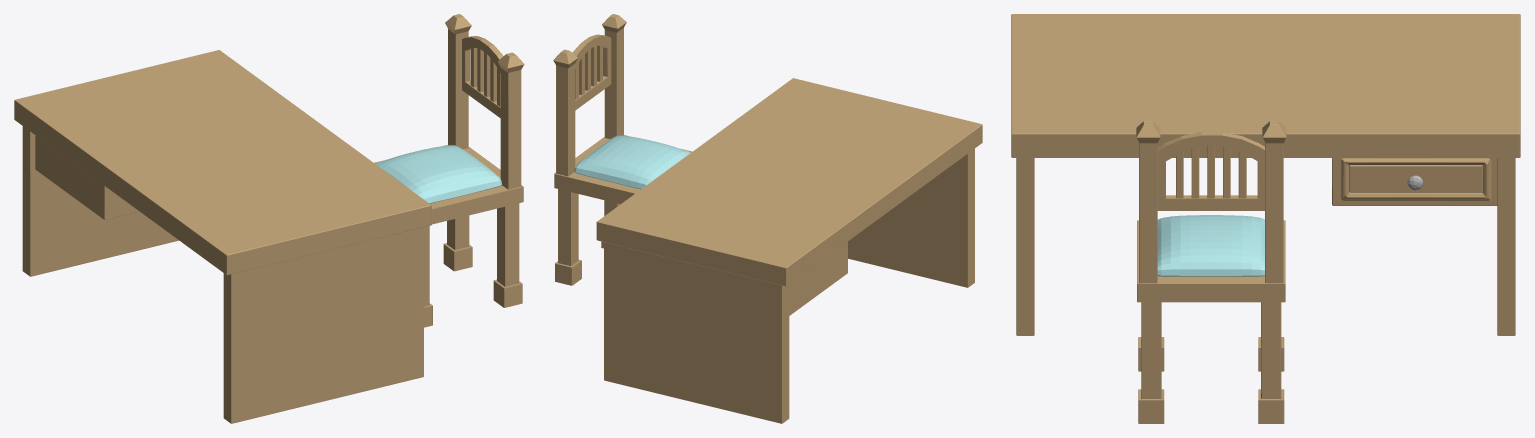
Rendered from desk_chair.glb.
The picture shows the model from 3 angles, left to right: view 1: azimuth 30°, elevation 25°; view 2: azimuth 150°, elevation 25°; view 3: azimuth 270°, elevation 25°; orthographic projection. The views are drawn at different scales.
Parts seen in each view (by area): view 1: Table, Chair; view 2: Table, Chair; view 3: Table, Chair.
Boxes of the visible parts, x1,y1,x2,y2 form: Table: (14,50,431,423); Chair: (374,14,524,327); Table: (596,78,982,423); Chair: (553,14,691,285); Table: (1011,14,1520,335); Chair: (1136,121,1286,423).
Bounding box in the file's own units: 2.69 × 1.82 × 2.83.
